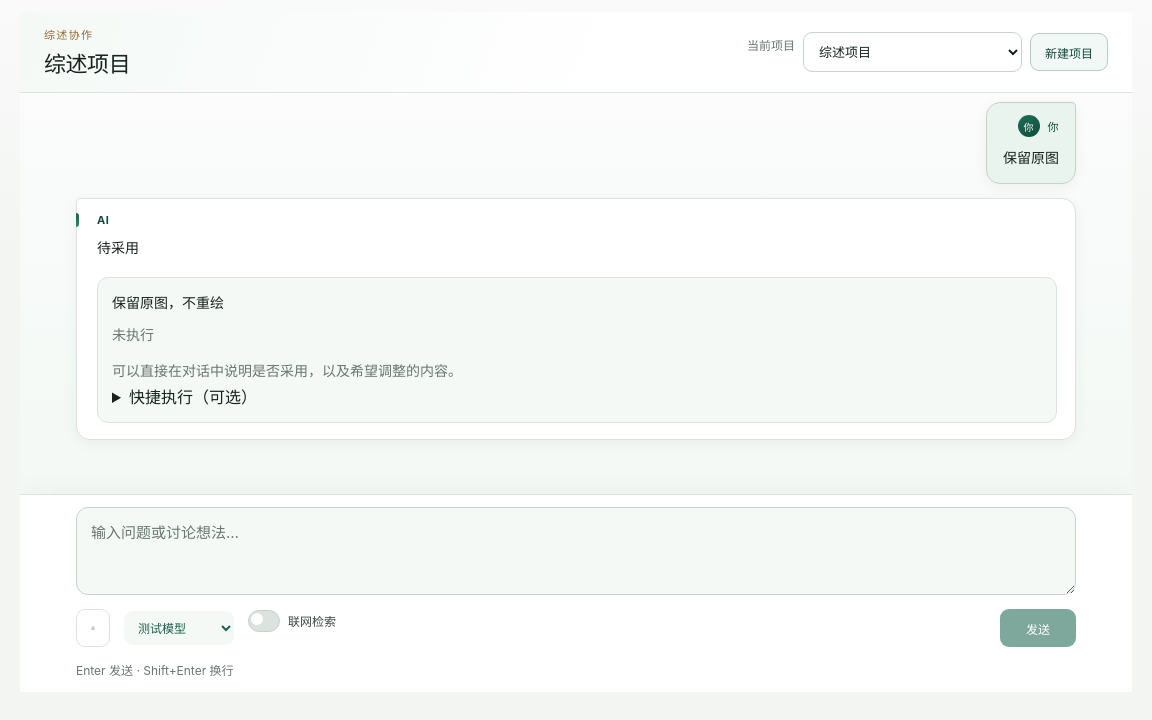
it: project conversation › does not execute an action while reading its history
(page scrolled)
Click the heading "快捷执行（可选）": [193, 397] box [129,387,257,407]
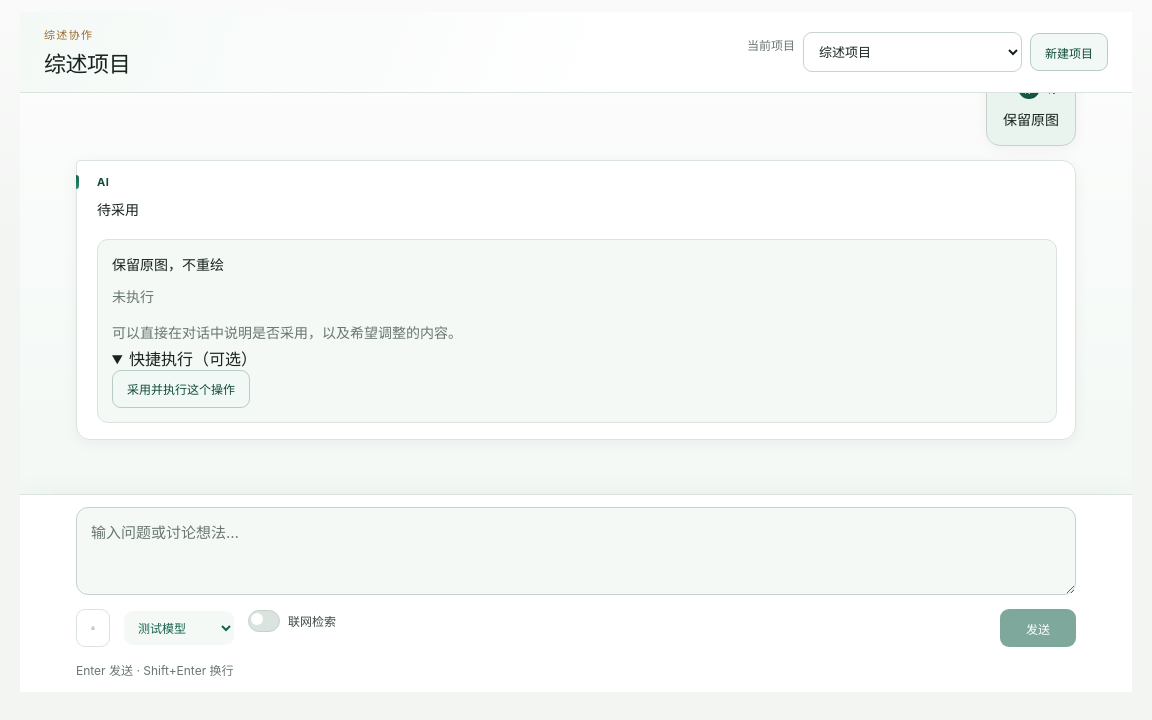
Now the button "采用并执行这个操作" is enabled, box [112,370,250,408]
